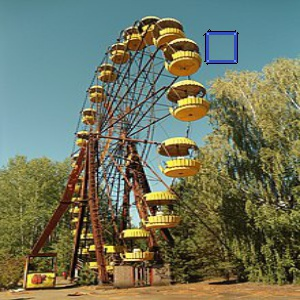square: (204, 29, 239, 64)
